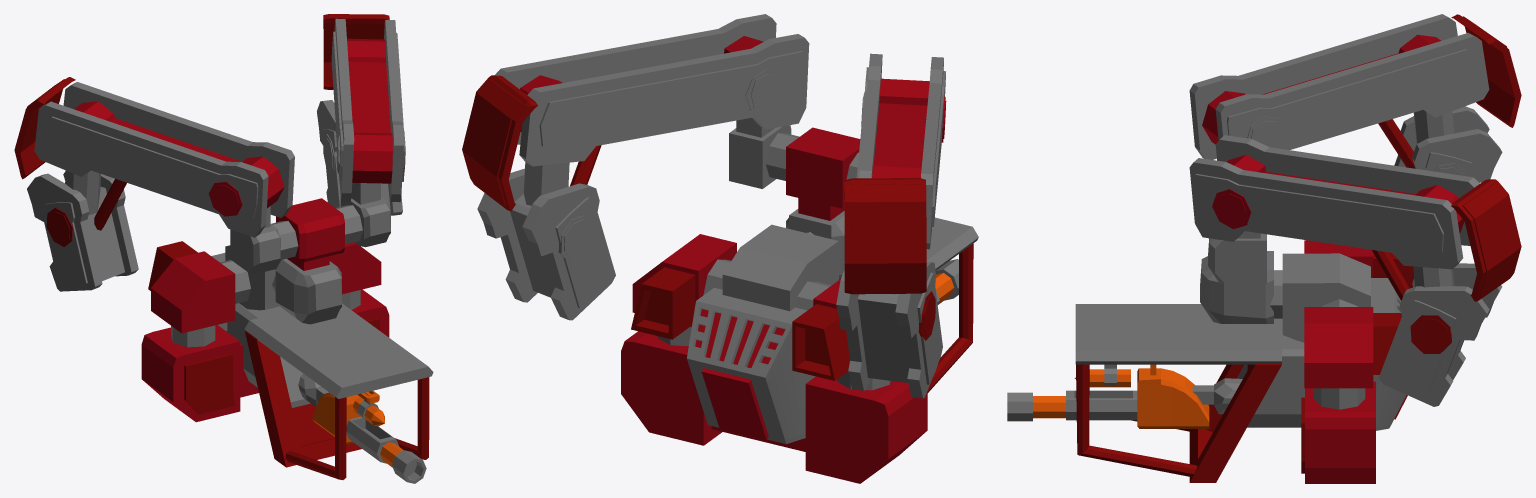
3 views of the same model, side by side, from view 1: azimuth 30°, elevation 25°; view 2: azimuth 150°, elevation 25°; view 3: azimuth 270°, elevation 25° (orthographic). The views are drawn at different scales.
Parts seen in each view (by area): view 1: Cube; view 2: Cube; view 3: Cube.
Part boxes in pixels (x1,y1,x2,y2): Cube: [14, 14, 433, 483]; Cube: [462, 14, 978, 483]; Cube: [1007, 14, 1521, 483].
Size of the model in its own units: 657 by 523 by 696.
